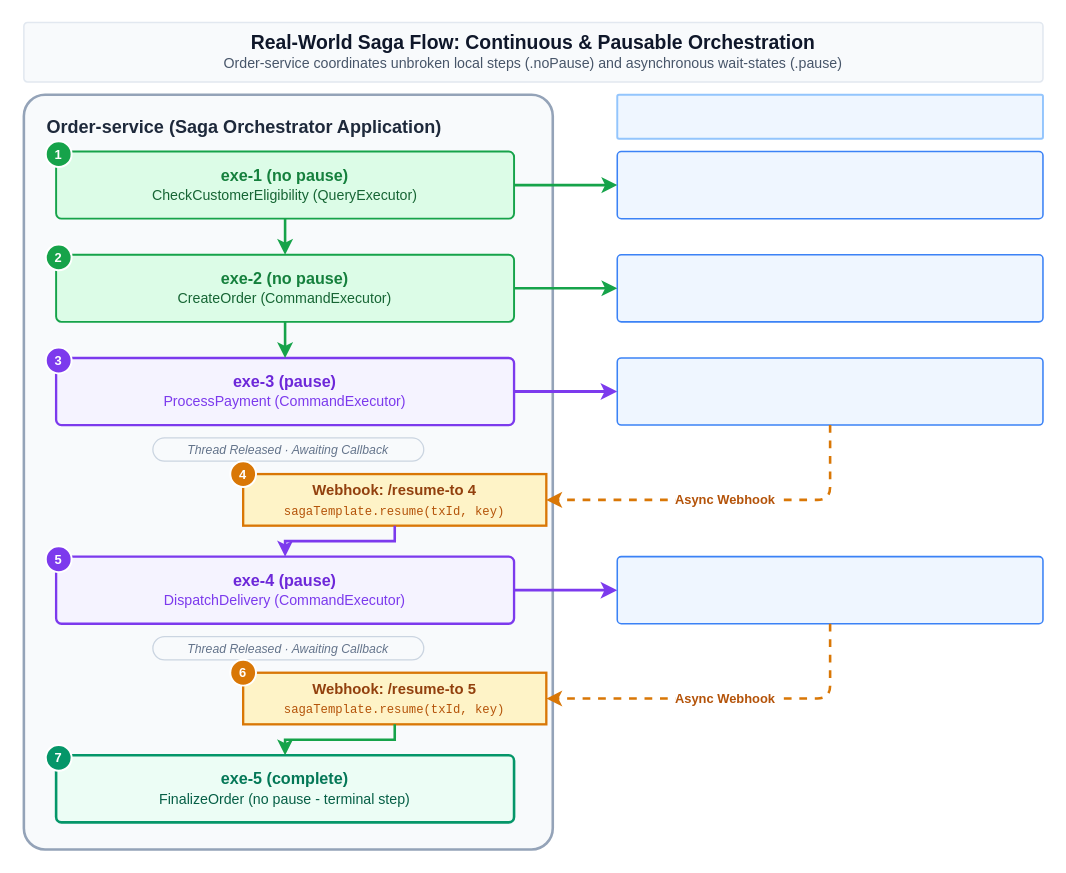
Image size: 1066x873. Some labels were removed from this diagram. The shapes that lost their labels are listed below. From the top down, each one's centre as x and y in pixels, then its label:
(x=829, y=116): Target Microservices & External Systems
(x=829, y=184): service-1 User Service (REST / Feign)
(x=829, y=287): service-2 Order DB (Local JPA / PostgreSQL)
(x=829, y=391): service-3 Payment Gateway (Stripe / Bank API)
(x=829, y=589): service-4 Delivery Partner Service (Logistics API)
